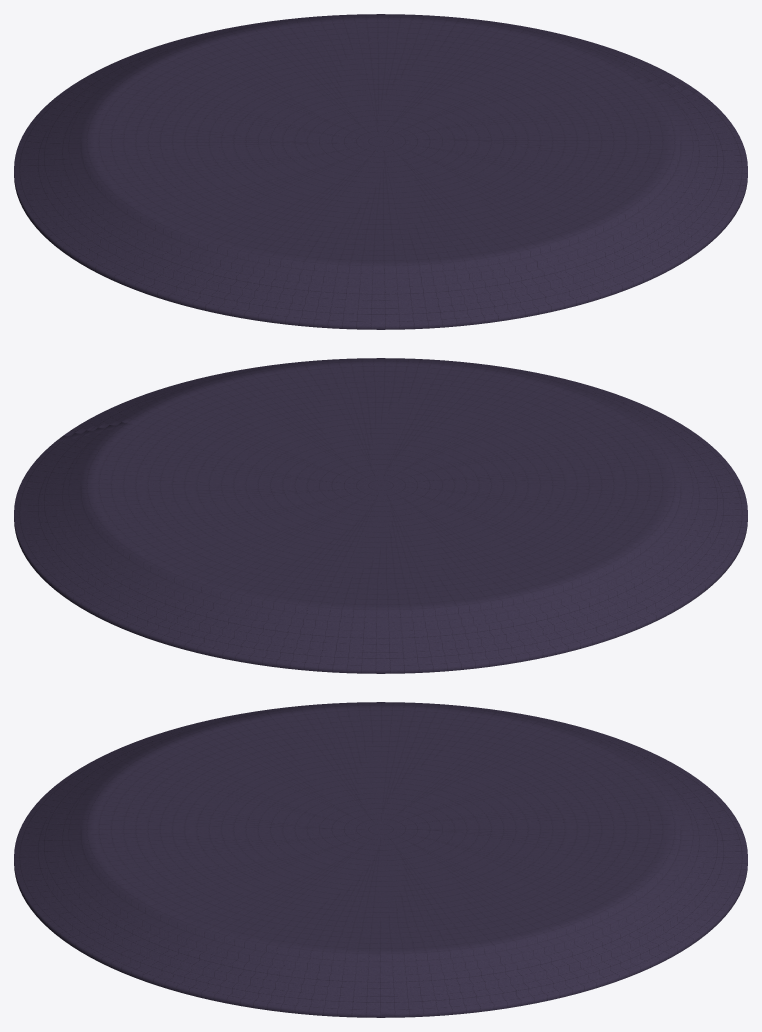
3 renders of one model, top to bottom at view 1: azimuth 30°, elevation 25°; view 2: azimuth 150°, elevation 25°; view 3: azimuth 270°, elevation 25°, orthographic.
Parts seen in each view (by area): view 1: kt_base; view 2: kt_base; view 3: kt_base.
Part boxes in pixels (x1,y1,x2,y2): kt_base: [14, 14, 747, 329]; kt_base: [14, 358, 747, 673]; kt_base: [14, 702, 747, 1017].
Bounding box in the file's own units: 30 × 1.5 × 30.
Materials: 1 (1 with a texture image).
